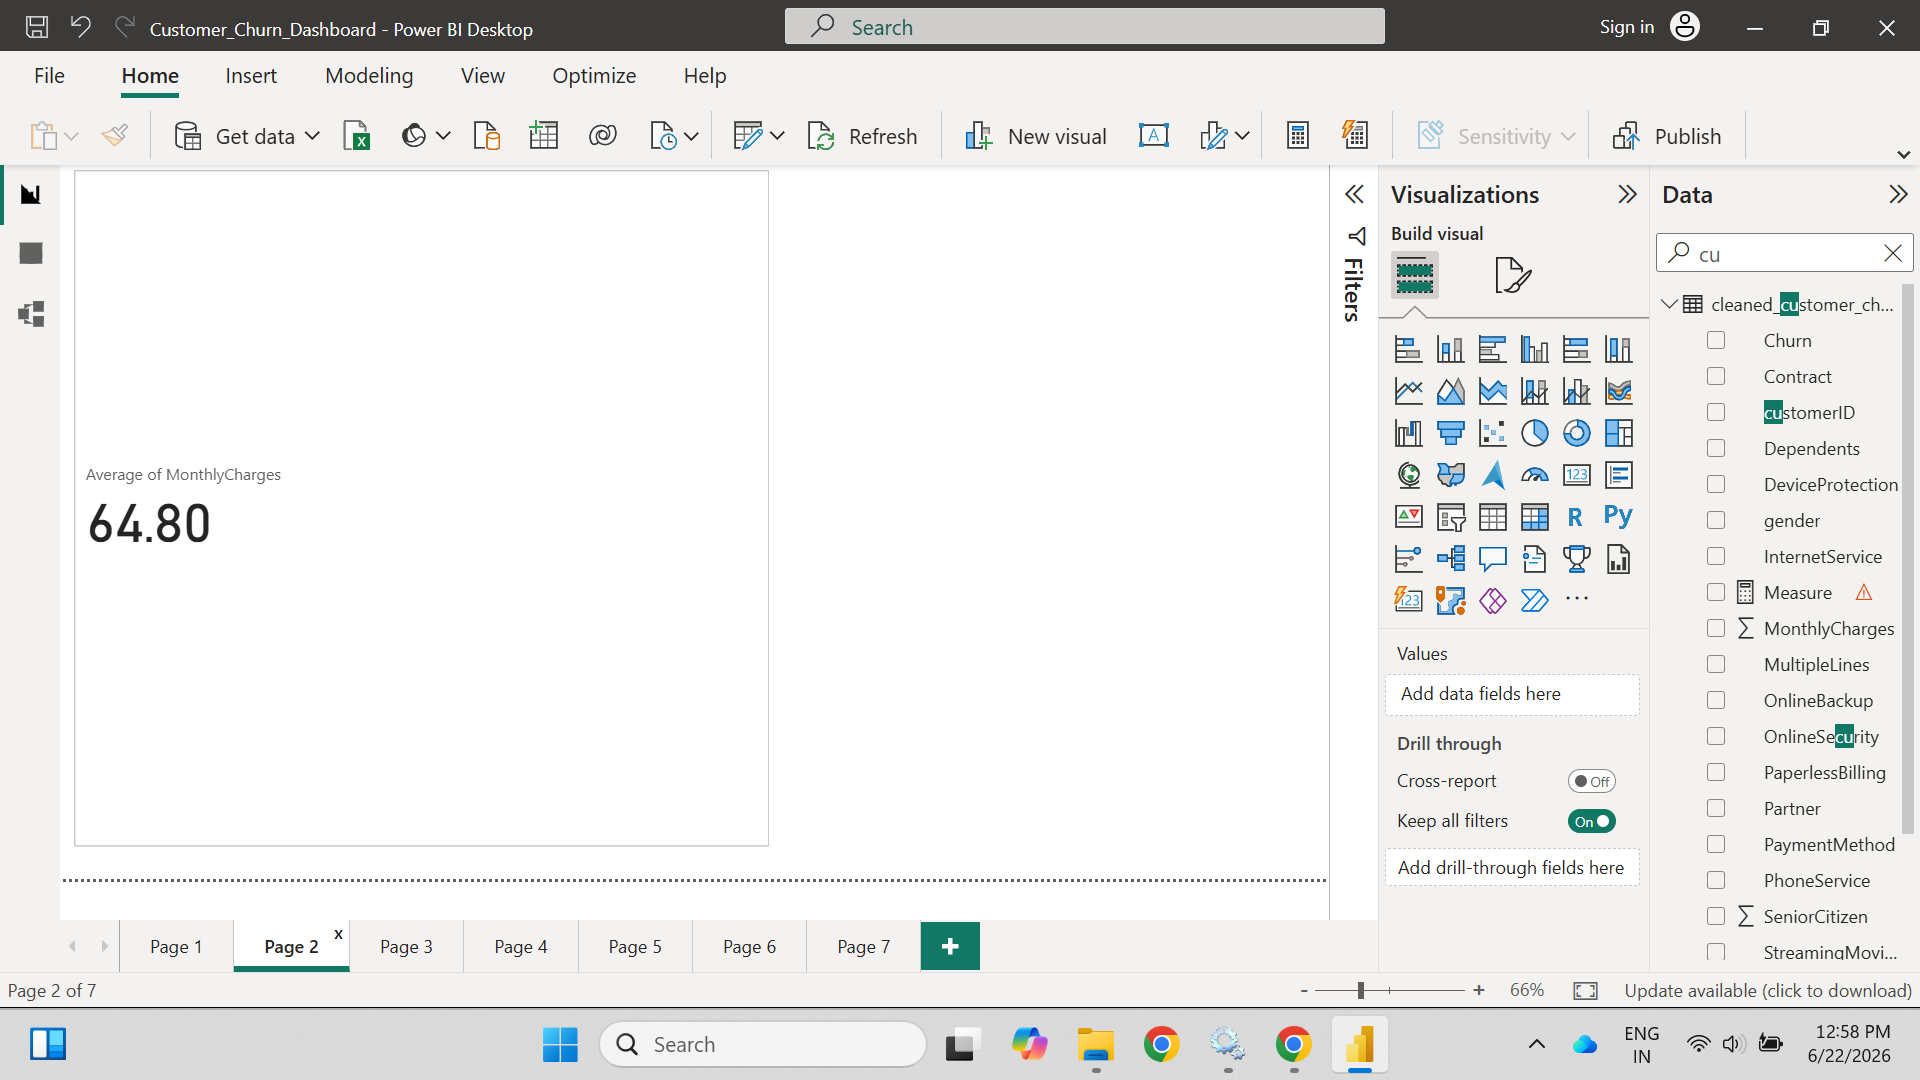

Layout of this report page (visuals, bound fields, positions):
{"tool":"powerbi","page":{"name":"Page 2","canvas":[1280,720],"ordinal":1},"visuals":[{"type":"cardVisual","fields":{"Data":["Avg(cleaned_customer_churn.MonthlyCharges)"]},"box":[9.4,0,711.7,692.9],"z":0}]}

Visuals, with their boxes on the page's 1280x720 design canvas (x1, y1, x2, y2). These are canvas units, not pixel positions in the 1920x1080 screenshot, which may show the page scaled, cropped or inside an application window:
cardVisual - Avg(cleaned_customer_churn.MonthlyCharges): Rect(9, 0, 721, 693)
